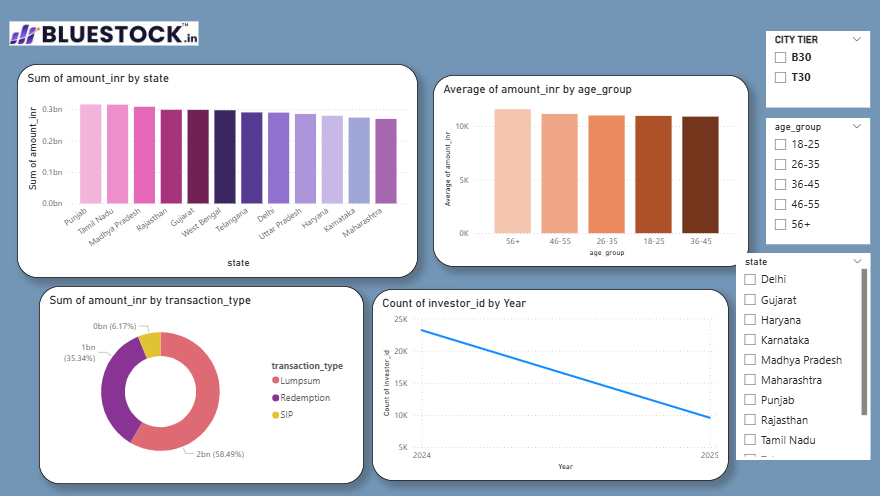

What the dashboard file says about the page in this screenshot:
{"tool":"powerbi","page":{"name":" Investor Analytics ","canvas":[1280,720],"ordinal":2},"visuals":[{"type":"columnChart","fields":{"Category":["clean_investor_transactions.state"],"Y":["Sum(clean_investor_transactions.amount_inr)"]},"box":[26.1,92.8,581.2,310.1],"z":0},{"type":"donutChart","fields":{"Category":["clean_investor_transactions.transaction_type"],"Y":["Sum(clean_investor_transactions.amount_inr)"]},"box":[58,414.5,471,287],"z":1000},{"type":"columnChart","fields":{"Category":["clean_investor_transactions.age_group"],"Y":["Avg(clean_investor_transactions.amount_inr)"]},"box":[629,108.7,458,278.3],"z":2000},{"type":"lineChart","fields":{"Category":["clean_investor_transactions.transaction_date.Variation.Date Hierarchy.Year","clean_investor_transactions.transaction_date.Variation.Date Hierarchy.Month"],"Y":["CountNonNull(clean_investor_transactions.investor_id)"]},"box":[540.6,418.8,517.4,278.3],"z":3000},{"type":"slicer","fields":{"Values":["clean_investor_transactions.state"]},"box":[1067.7,366.2,195.4,300],"z":4000},{"type":"slicer","fields":{"Values":["clean_investor_transactions.age_group"]},"box":[1112.3,170.8,150.8,183.1],"z":5000},{"type":"slicer","fields":{"Values":["clean_investor_transactions.city_tier"]},"box":[1112.3,44.6,150.8,110.8],"z":6000},{"type":"image","box":[10.1,0,284.1,97.1],"z":6001}]}

Visuals, with their boxes in screenshot pixels (x1, y1, x2, y2), scaled from the page's 1280x720 canvas onto the 880x496 screenshot:
columnChart - clean_investor_transactions.state x Sum(clean_investor_transactions.amount_inr): <box>18,64,418,278</box>
donutChart - clean_investor_transactions.transaction_type x Sum(clean_investor_transactions.amount_inr): <box>40,286,364,483</box>
columnChart - clean_investor_transactions.age_group x Avg(clean_investor_transactions.amount_inr): <box>432,75,747,267</box>
lineChart - clean_investor_transactions.transaction_date.Variation.Date Hierarchy.Year x clean_investor_transactions.transaction_date.Variation.Date Hierarchy.Month: <box>372,289,727,480</box>
slicer - clean_investor_transactions.state: <box>734,252,868,459</box>
slicer - clean_investor_transactions.age_group: <box>765,118,868,244</box>
slicer - clean_investor_transactions.city_tier: <box>765,31,868,107</box>
image: <box>7,0,202,67</box>
